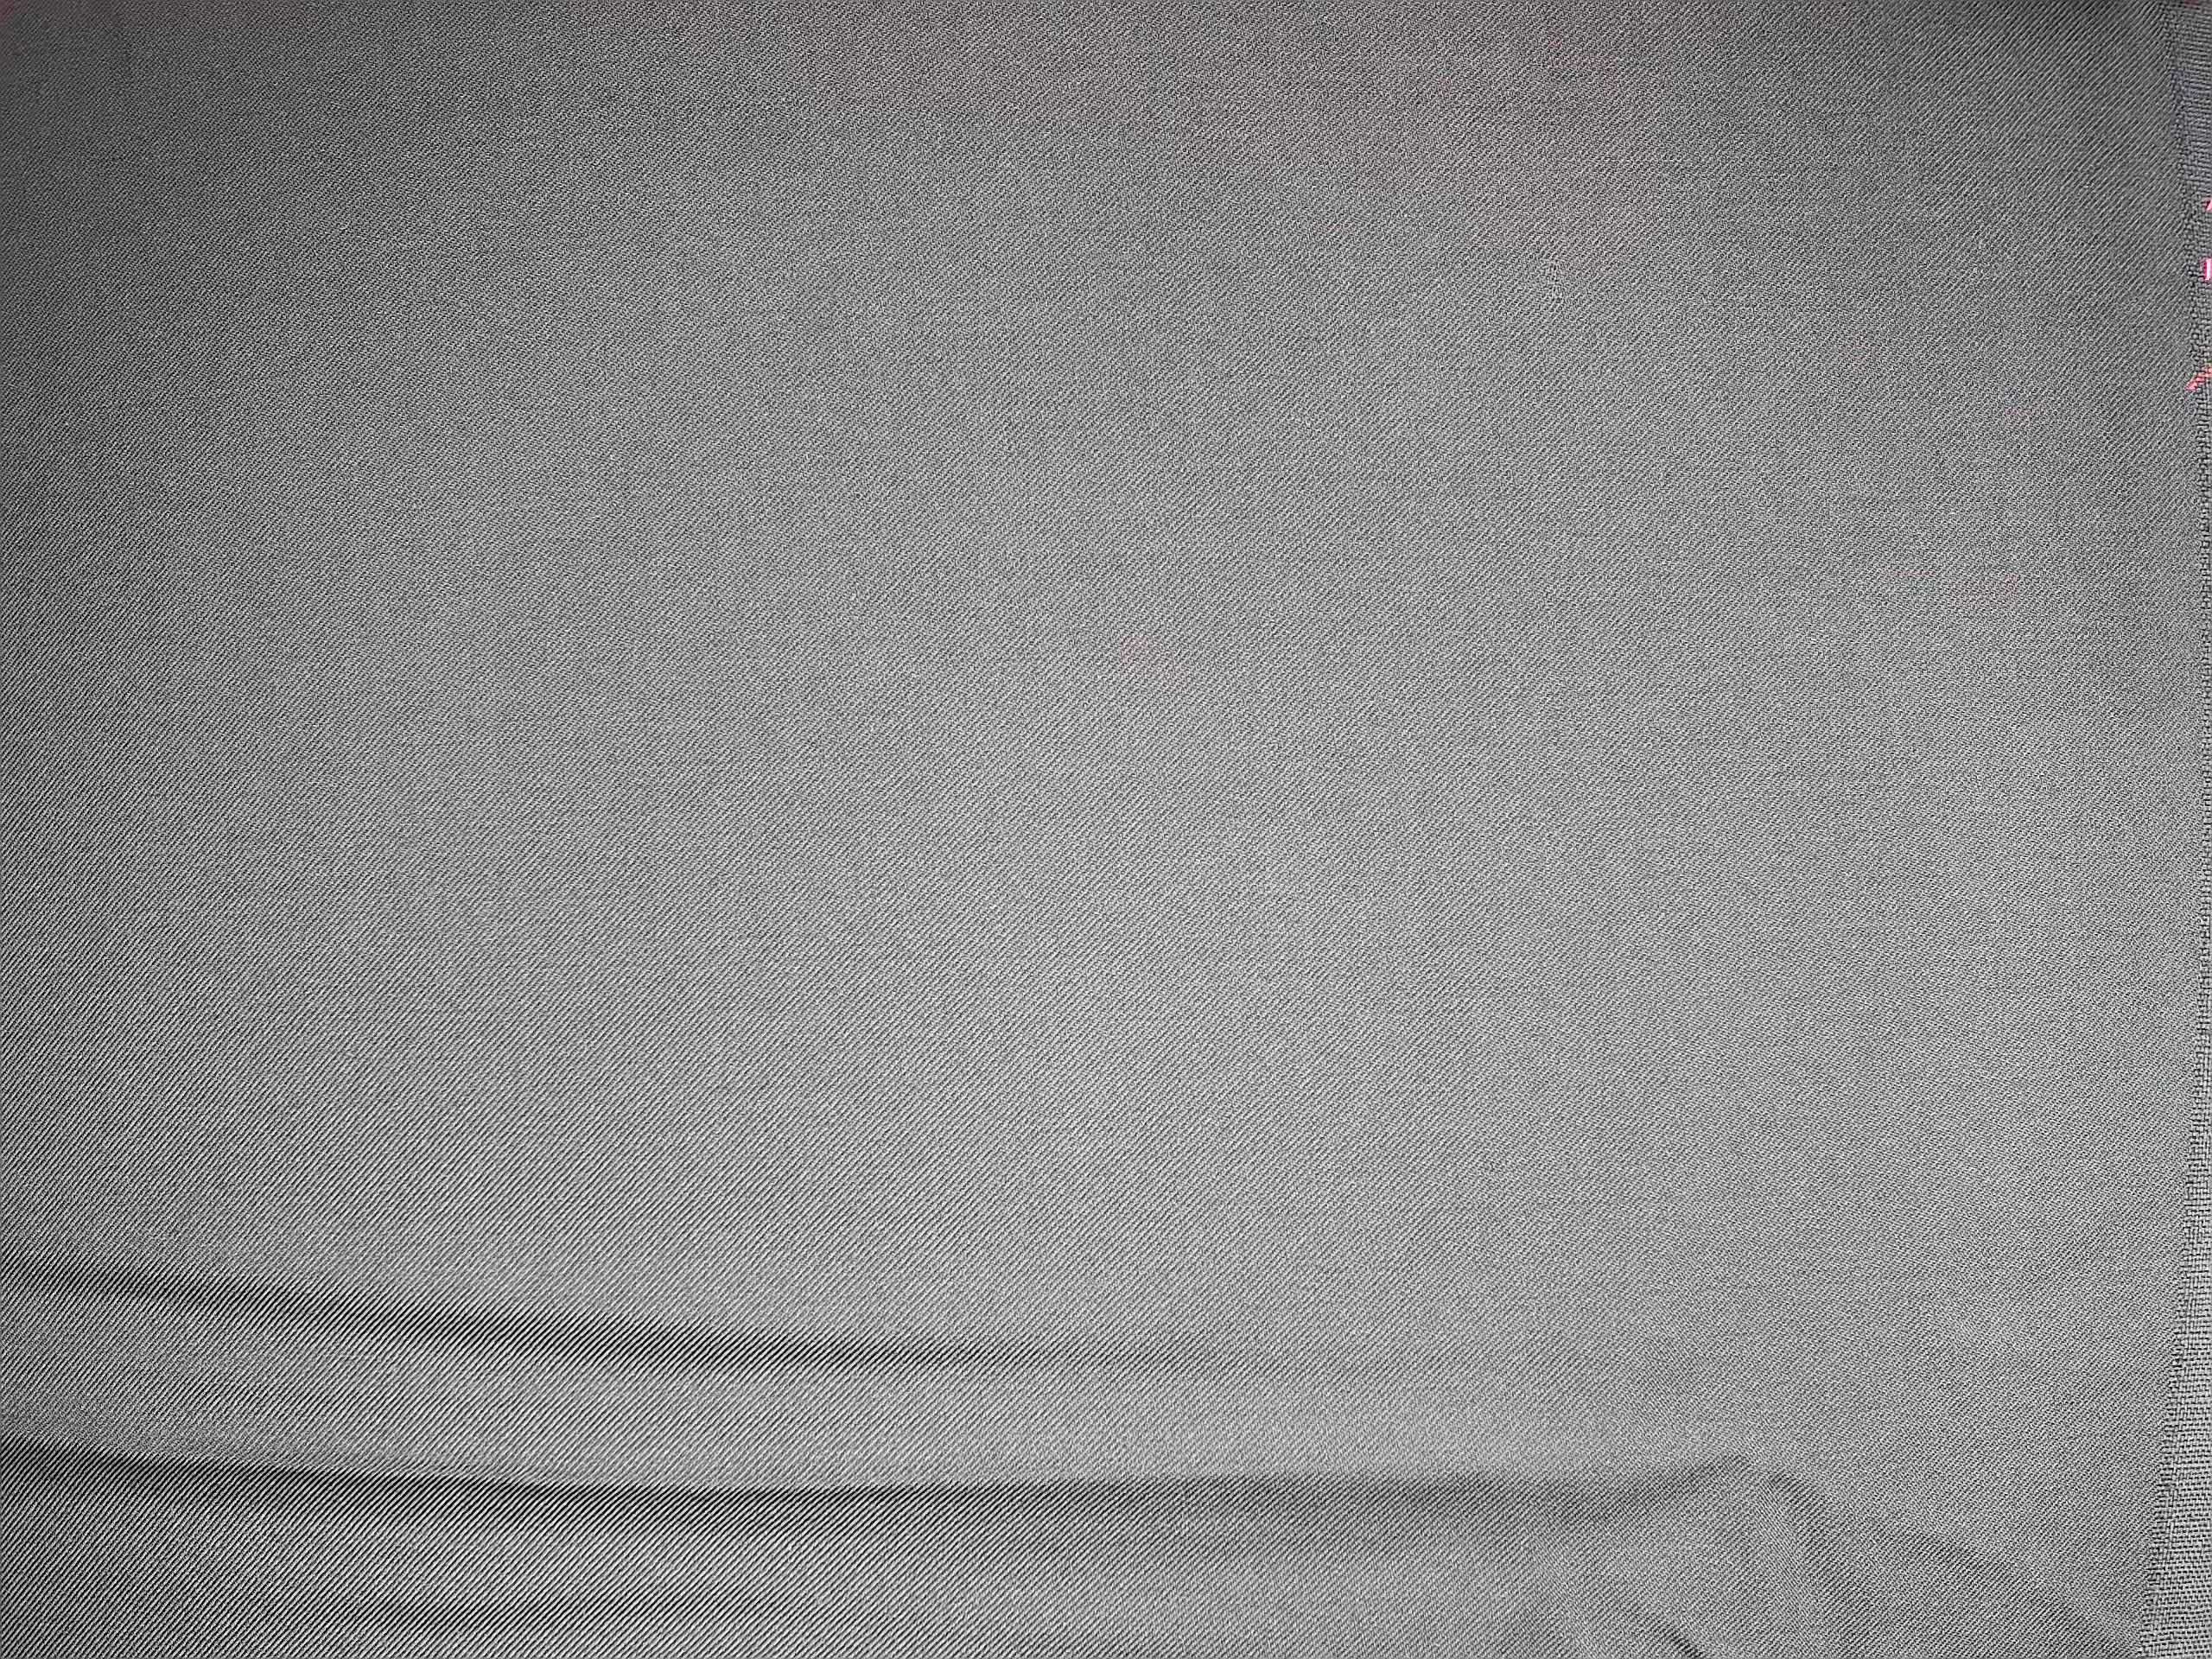jumps: (1534, 242, 1575, 319)
